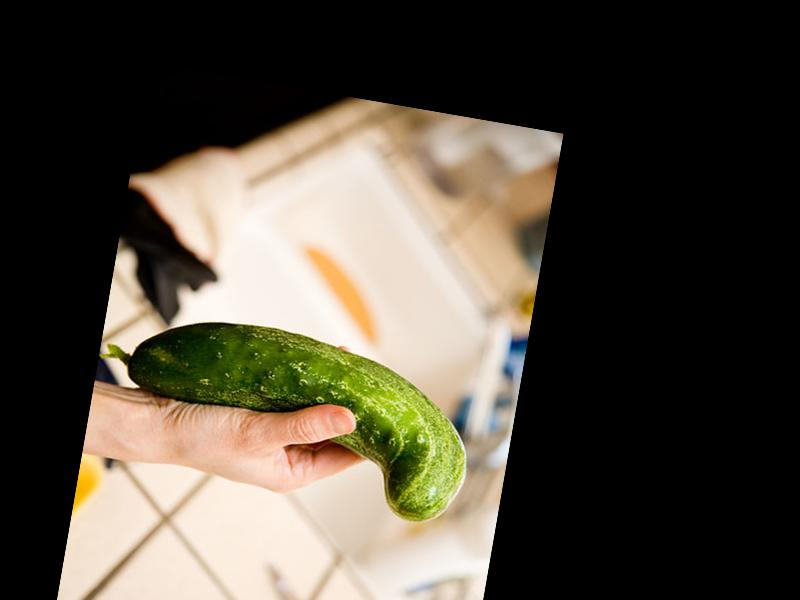Cucumber: (86, 299, 485, 528)
